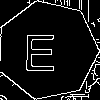E: (23, 25, 57, 71)
